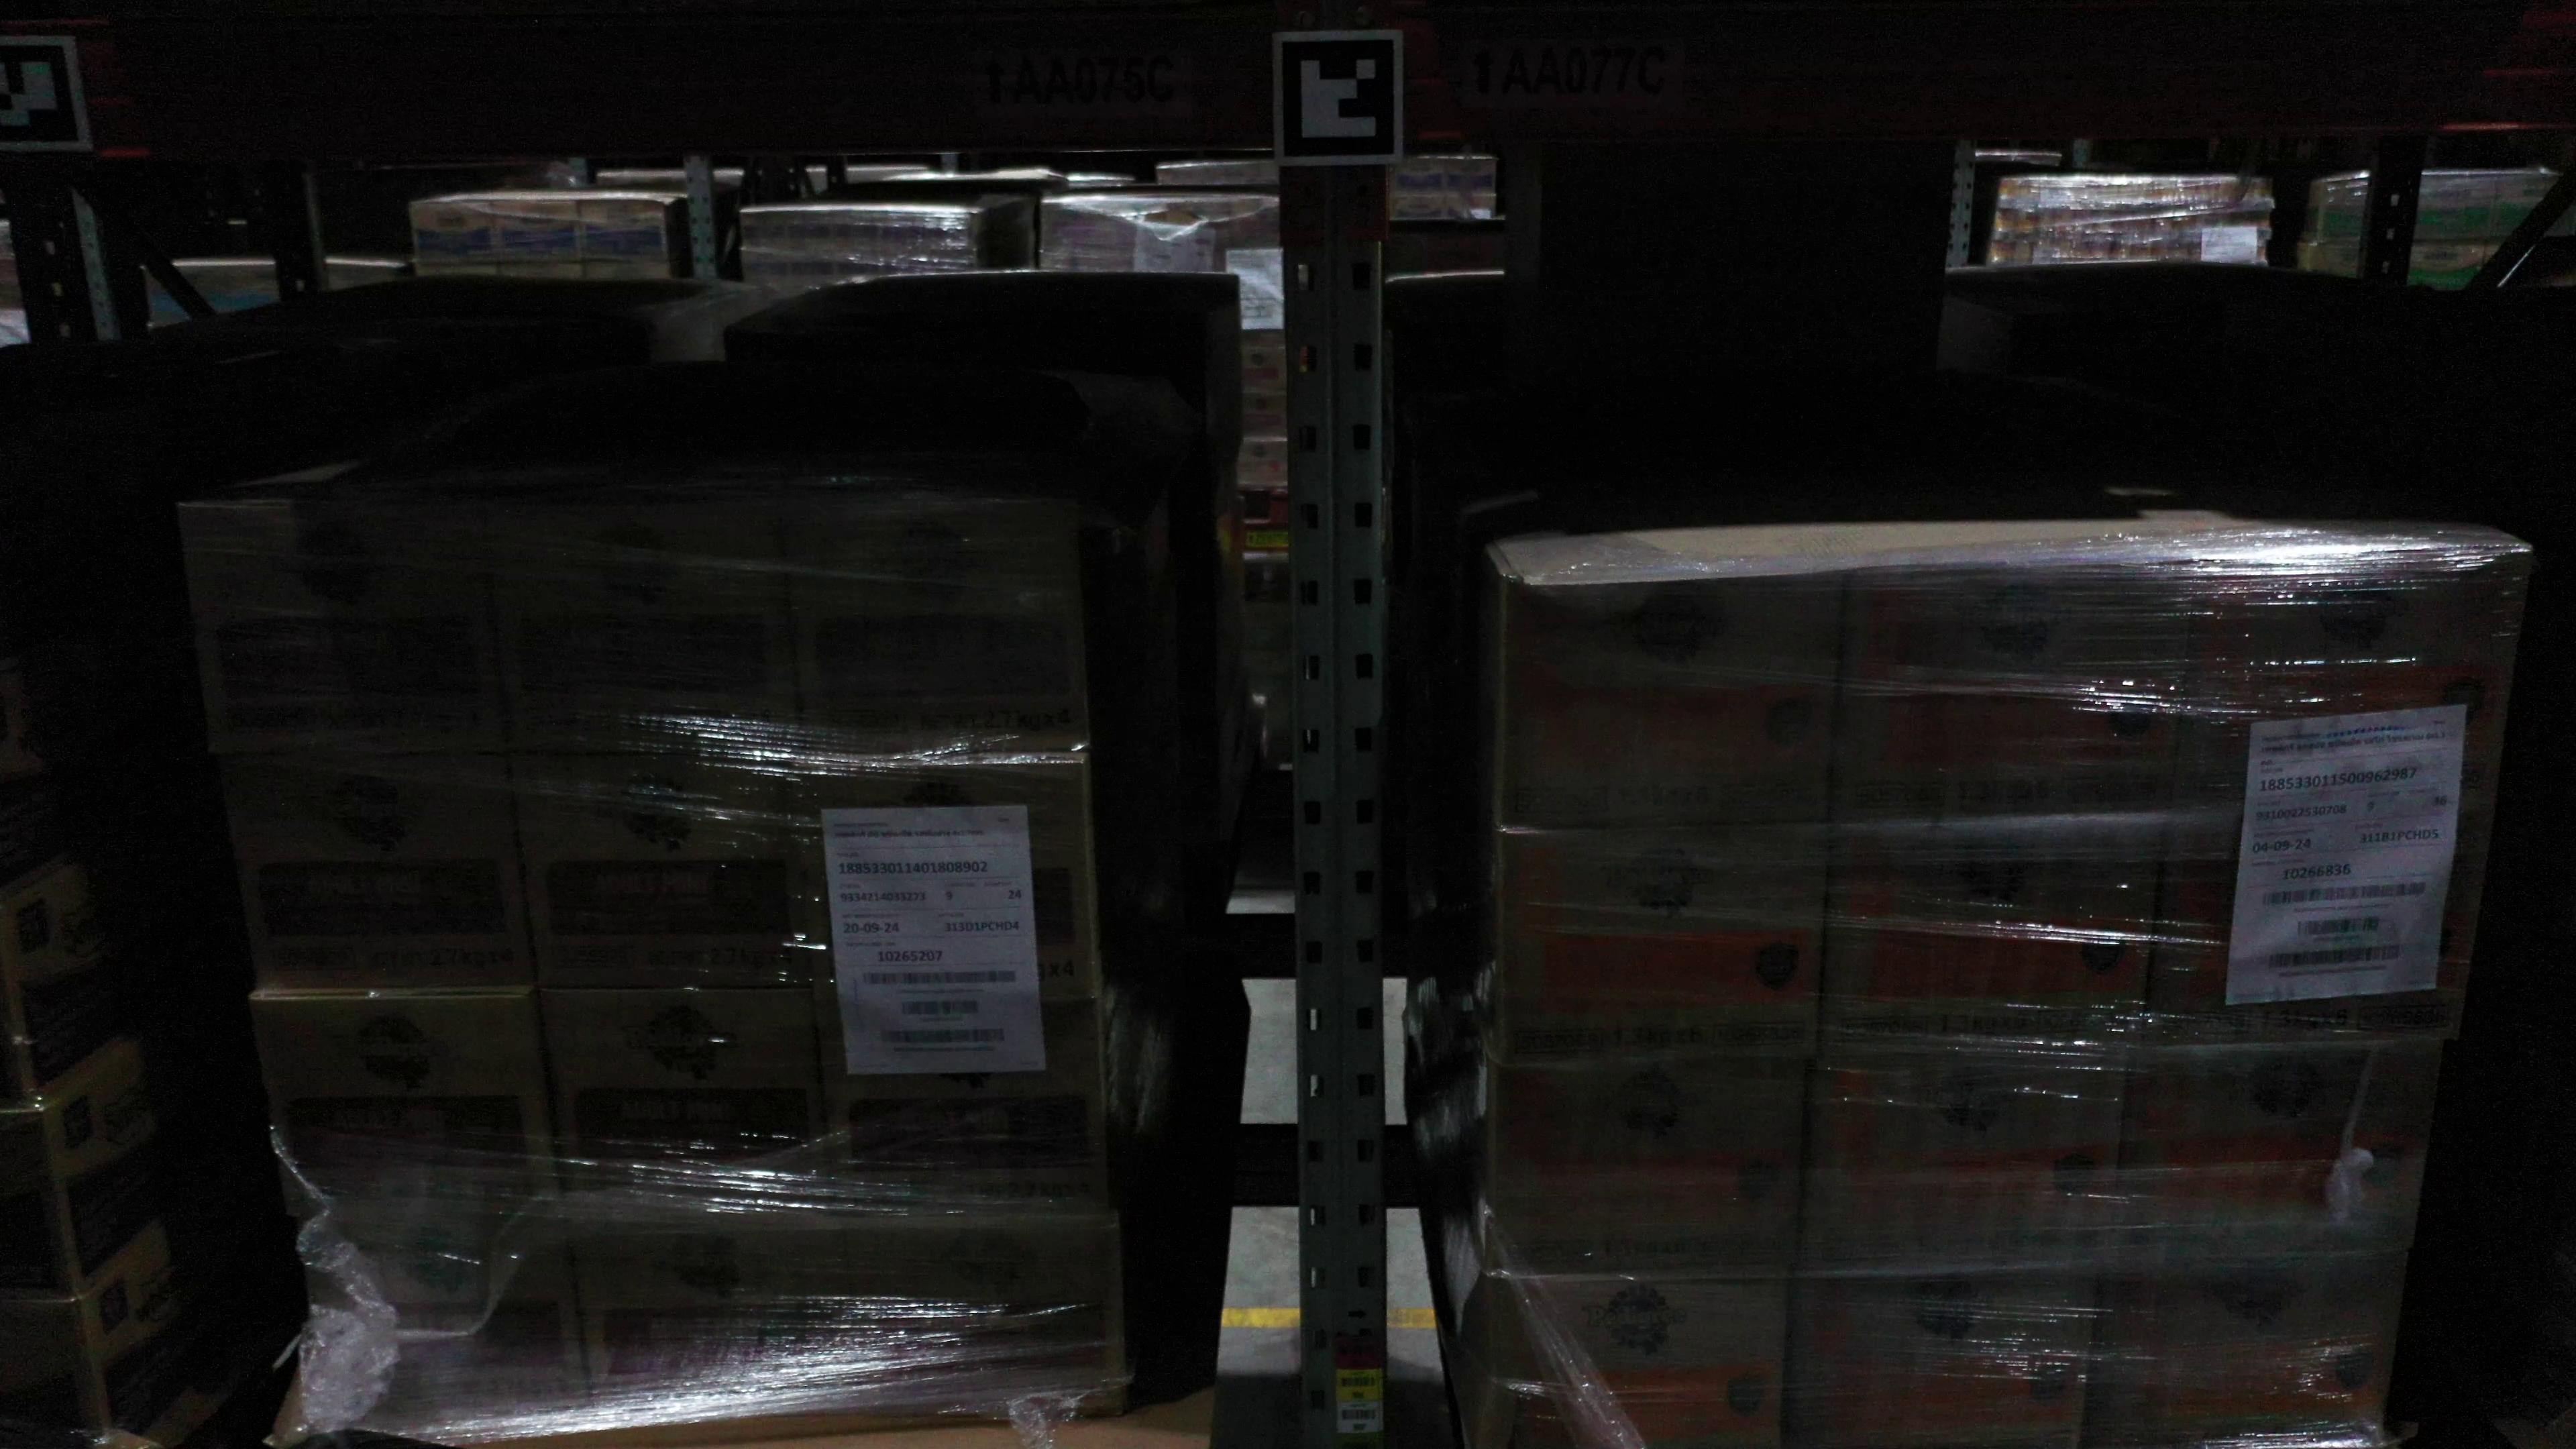-: (2169, 554, 2532, 819), (1833, 566, 2196, 823), (1497, 577, 1842, 830), (2141, 805, 2491, 1051), (177, 499, 508, 755), (1819, 816, 2167, 1058), (1497, 824, 1836, 1065), (485, 508, 798, 763), (782, 506, 1090, 764), (214, 748, 533, 991), (2107, 1040, 2442, 1269), (798, 754, 1102, 1000), (1794, 1053, 2134, 1272), (1491, 1058, 1819, 1281), (511, 757, 812, 991), (816, 993, 1111, 1221), (540, 991, 840, 1212), (251, 993, 559, 1207), (2082, 1254, 2408, 1449), (295, 1207, 593, 1407), (563, 1210, 870, 1398), (1776, 1272, 2102, 1449), (1490, 1274, 1794, 1449), (840, 1221, 1125, 1401), (0, 1299, 111, 1449), (0, 1104, 78, 1295)
